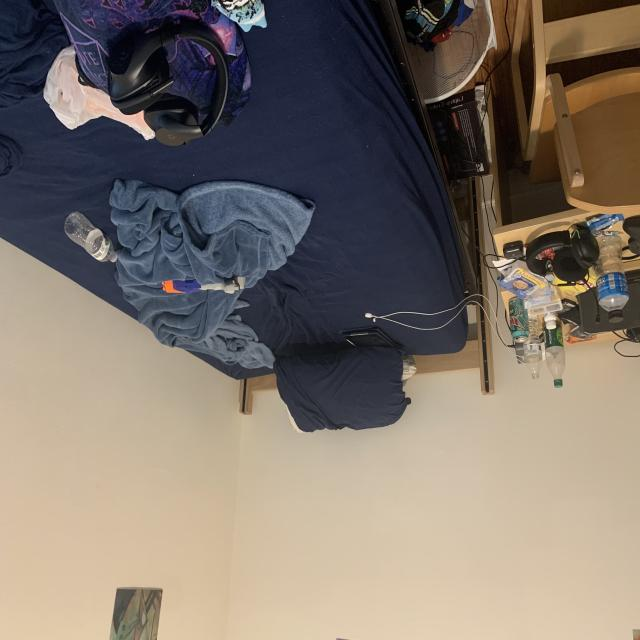nerf-maverik: (157, 262, 250, 308)
